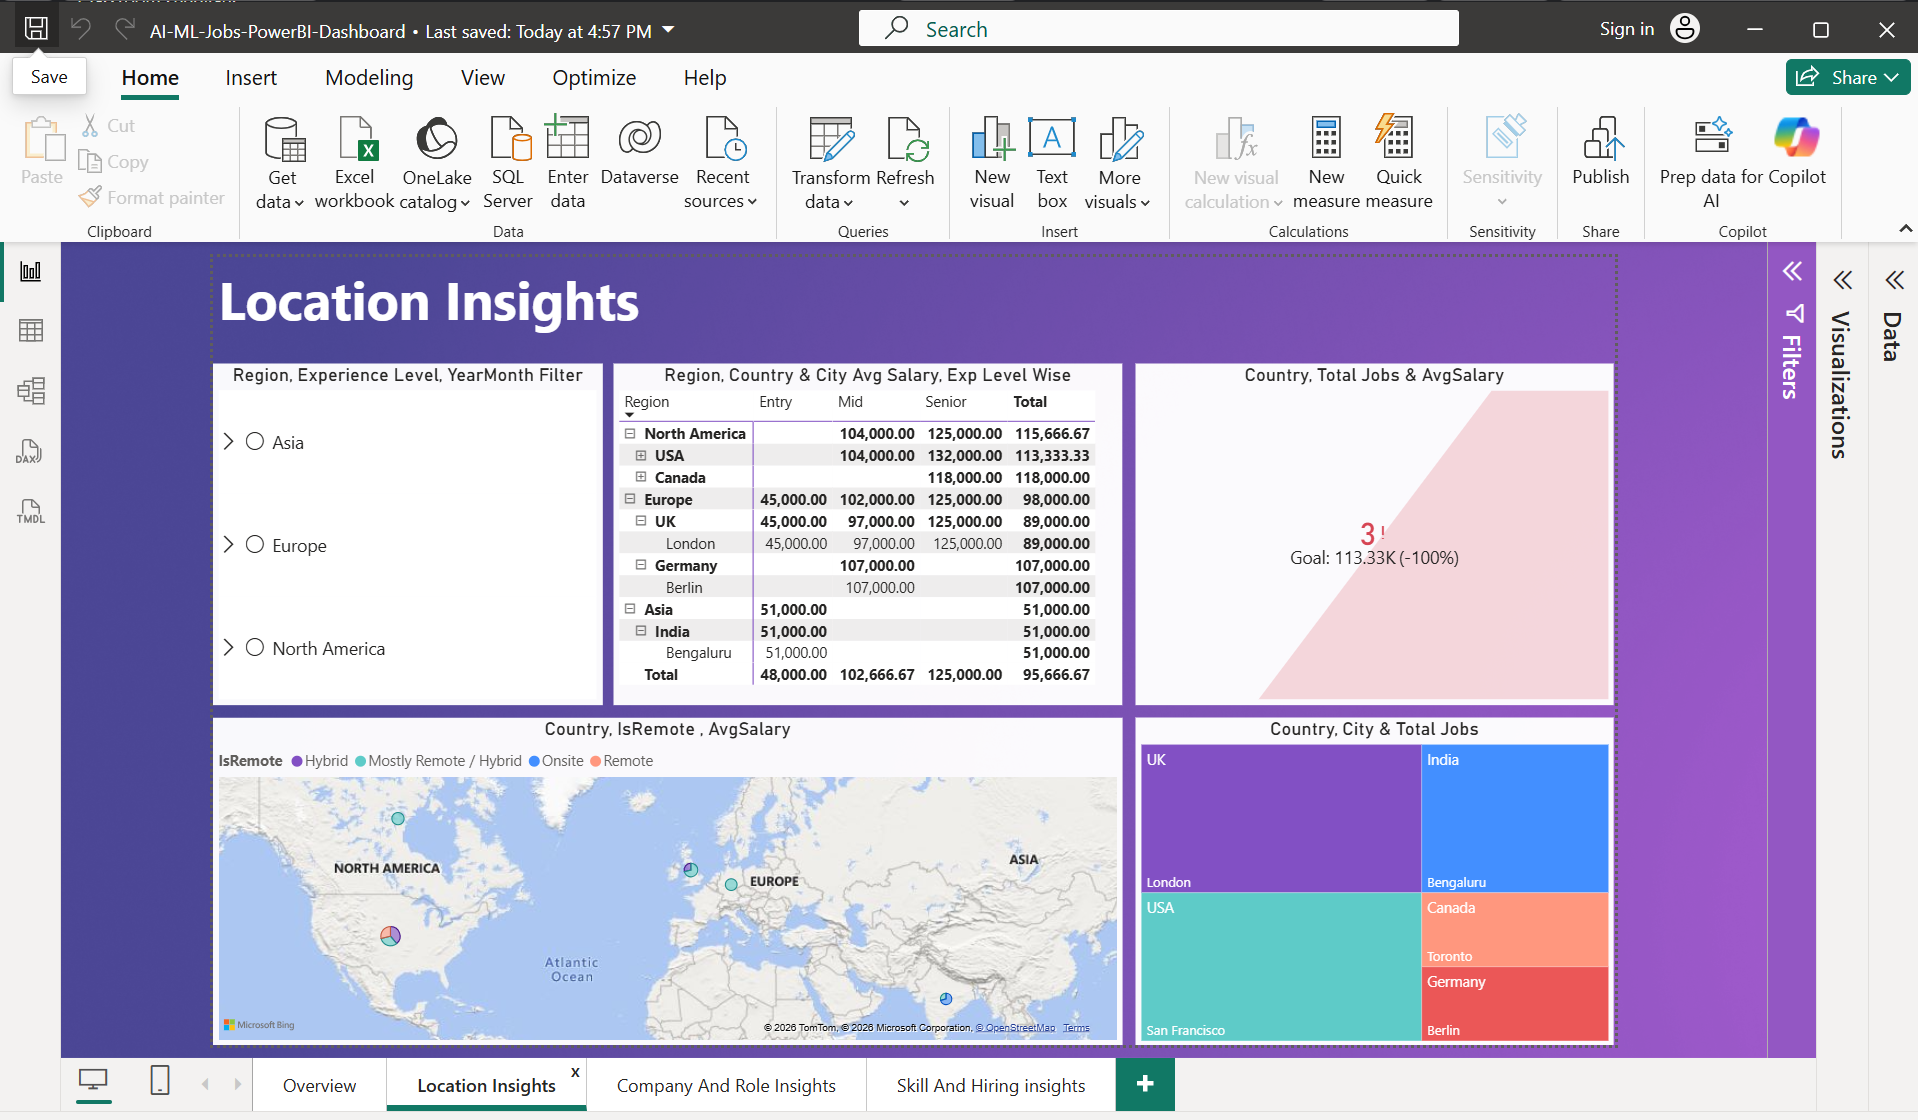

Layout of this report page (visuals, bound fields, positions):
{"tool":"powerbi","page":{"name":"Location Insights","canvas":[1280,720],"ordinal":1},"visuals":[{"type":"listSlicer","title":"Region, Experience Level, YearMonth Filter","fields":{"Values":["Dim_Locations.Region","Fact_Jobs.Experience_Level","Dim_Date.YearMonth"]},"box":[0,97.1,355.9,311.8],"z":0},{"type":"textbox","box":[0,0,394.1,77.9],"z":1000},{"type":"map","title":"Country, IsRemote , AvgSalary","fields":{"Category":["Dim_Locations.Country"],"Size":["Fact_Jobs.AvgSalaryByCountry"],"Series":["Fact_Jobs.IsRemote"]},"box":[0,420.6,830.9,300],"z":2000},{"type":"kpi","title":"Country, Total Jobs & AvgSalary","fields":{"TrendLine":["Dim_Locations.Country"],"Goal":["Fact_Jobs.AvgSalaryByCountry"],"Indicator":["Fact_Jobs.TotalJobs"]},"box":[842.6,97.1,436.8,311.8],"z":3000},{"type":"treemap","title":"Country, City & Total Jobs ","fields":{"Values":["Fact_Jobs.TotalJobs"],"Group":["Dim_Locations.Country"],"Details":["Dim_Locations.City"]},"box":[842.6,420.6,436.8,300],"z":4000},{"type":"pivotTable","title":"Region, Country & City Avg Salary, Exp Level Wise","fields":{"Rows":["Dim_Locations.Region","Dim_Locations.Country","Dim_Locations.City"],"Columns":["Fact_Jobs.Experience_Level"],"Values":["Fact_Jobs.AvgSalaryByCountry"]},"box":[366.2,97.1,464.7,311.8],"z":5000}]}

Visuals, with their boxes on the page's 1280x720 design canvas (x1, y1, x2, y2). These are canvas units, not pixel positions in the 1918x1120 screenshot, which may show the page scaled, cropped or inside an application window:
"Region, Experience Level, YearMonth Filter" listSlicer: {"x1": 0, "y1": 97, "x2": 356, "y2": 409}
textbox: {"x1": 0, "y1": 0, "x2": 394, "y2": 78}
"Country, IsRemote , AvgSalary" map: {"x1": 0, "y1": 421, "x2": 831, "y2": 721}
"Country, Total Jobs & AvgSalary" kpi: {"x1": 843, "y1": 97, "x2": 1279, "y2": 409}
"Country, City & Total Jobs " treemap: {"x1": 843, "y1": 421, "x2": 1279, "y2": 721}
"Region, Country & City Avg Salary, Exp Level Wise" pivotTable: {"x1": 366, "y1": 97, "x2": 831, "y2": 409}
